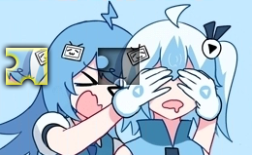gap: (98, 49, 139, 85)
